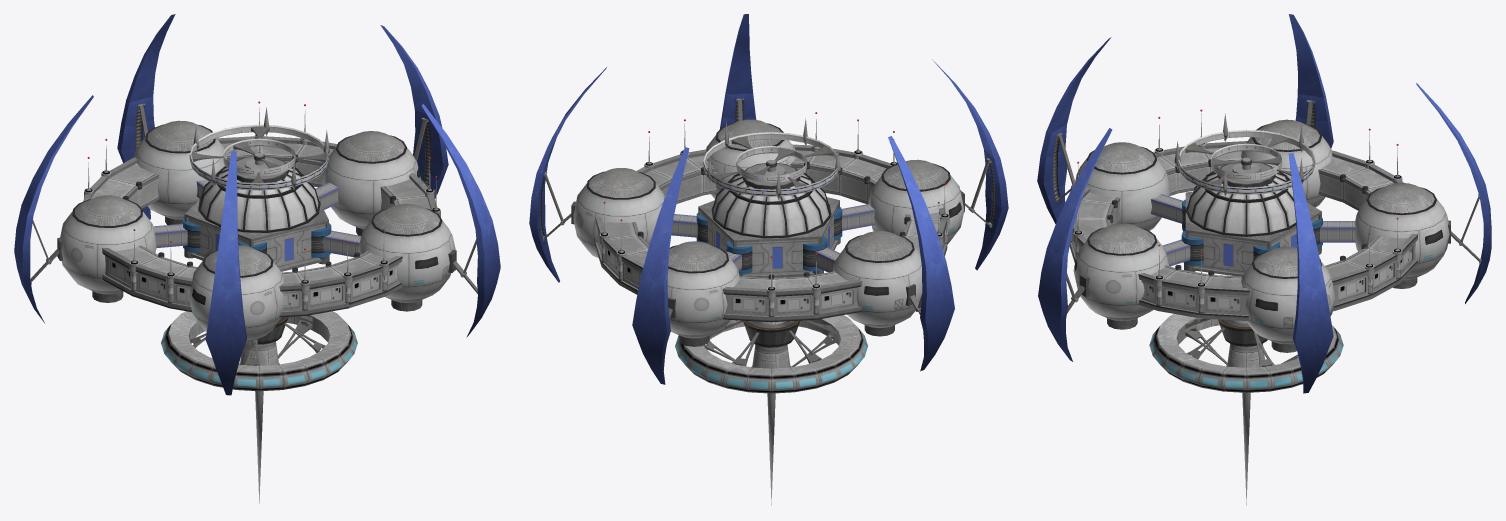
The model's file is SpaceStation.FBX.
3 renders of one model, left to right at view 1: azimuth 30°, elevation 25°; view 2: azimuth 150°, elevation 25°; view 3: azimuth 270°, elevation 25°, orthographic. The views are drawn at different scales.
Visible parts, largest first — view 1: SpaceStation; view 2: SpaceStation; view 3: SpaceStation.
Boxes of the visible parts, x1,y1,x2,y2 form: SpaceStation: (14, 14, 500, 503); SpaceStation: (529, 14, 1008, 505); SpaceStation: (1037, 14, 1491, 505).
Bounding box in the file's own units: 3510 × 3382 × 3289.
